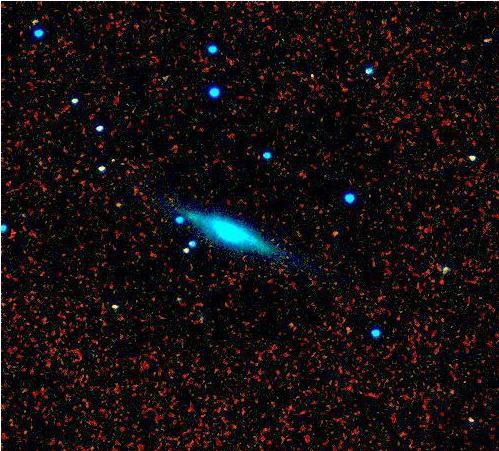star: (104, 192, 134, 222)
